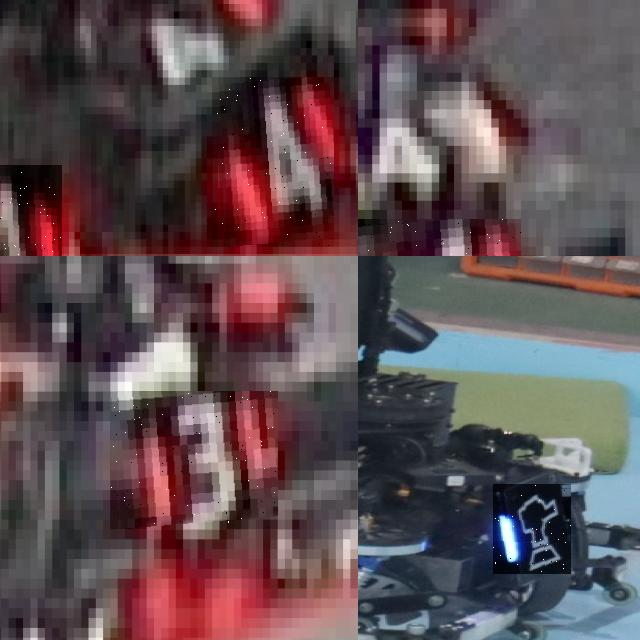Bs: (493, 484, 571, 574)
R3: (110, 392, 278, 530)
R4: (212, 77, 334, 247), (358, 218, 520, 256), (0, 165, 63, 256)
